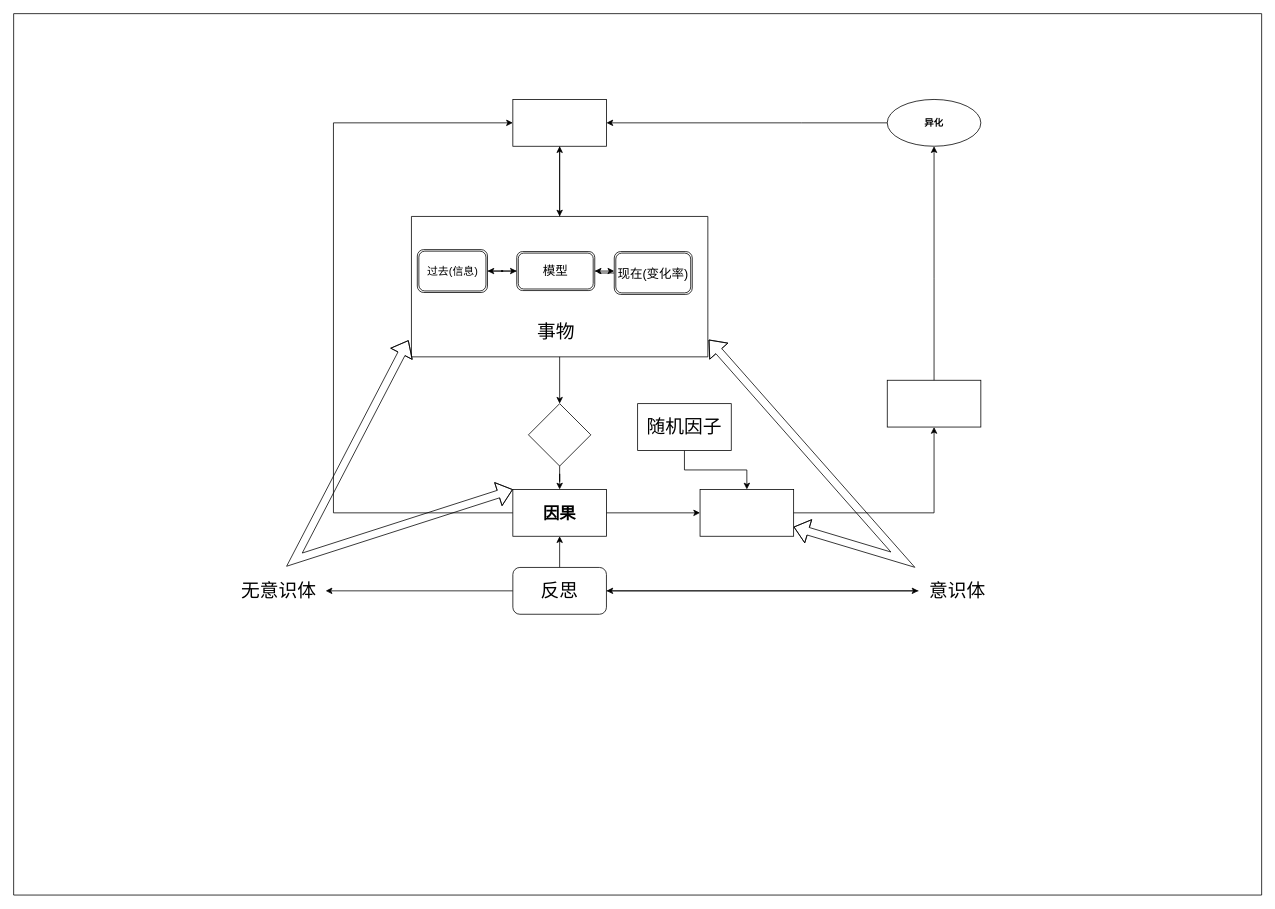
This 1275x909 diagram has some shape labels left out. Each missing label, with the centre of its shape:
收敛: (x=559, y=434)
未来: (x=559, y=122)
欲望: (x=746, y=512)
目标: (x=933, y=403)
